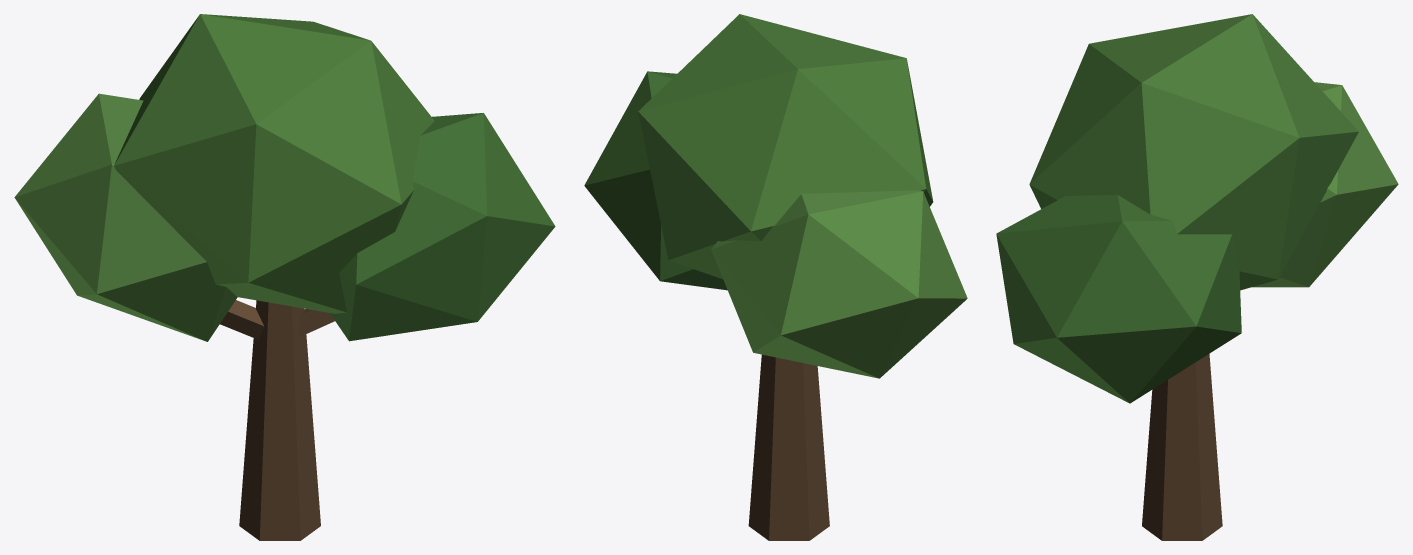
File: tree-broadleaf.glb
3 renders of one model, left to right at view 1: azimuth 30°, elevation 25°; view 2: azimuth 150°, elevation 25°; view 3: azimuth 270°, elevation 25°, orthographic.
Parts seen in each view (by area): view 1: tree; view 2: tree; view 3: tree.
Part boxes in pixels (<box>): tree: <box>14,14,555,540</box>; tree: <box>584,14,967,540</box>; tree: <box>996,14,1398,540</box>.
Bounding box in the file's own units: 0.2315 × 0.268 × 0.1992.
